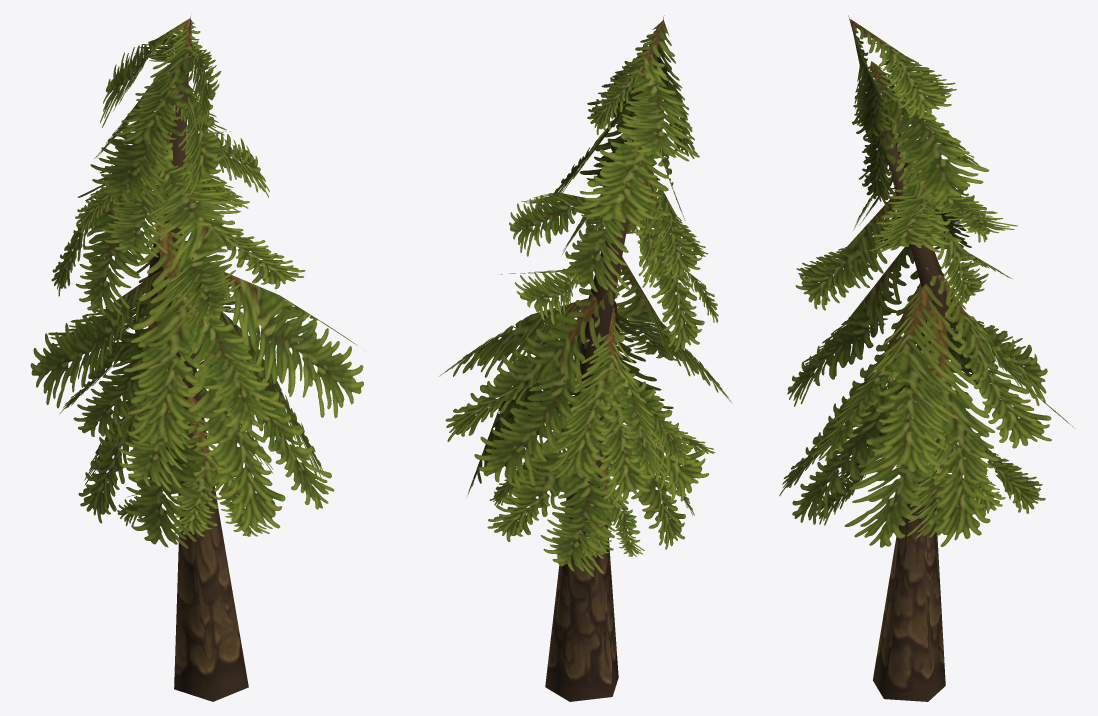
The model's file is tree_conifer_02.fbx.
3 renders of one model, left to right at view 1: azimuth 30°, elevation 25°; view 2: azimuth 150°, elevation 25°; view 3: azimuth 270°, elevation 25°, orthographic. The views are drawn at different scales.
Parts seen in each view (by area): view 1: tree_conifer_02; view 2: tree_conifer_02; view 3: tree_conifer_02.
Part boxes in pixels (x1=…): tree_conifer_02: x1=30, y1=14, x2=363, y2=701; tree_conifer_02: x1=439, y1=15, x2=732, y2=701; tree_conifer_02: x1=779, y1=15, x2=1074, y2=701.
Bounding box in the file's own units: 297 × 669 × 290.
